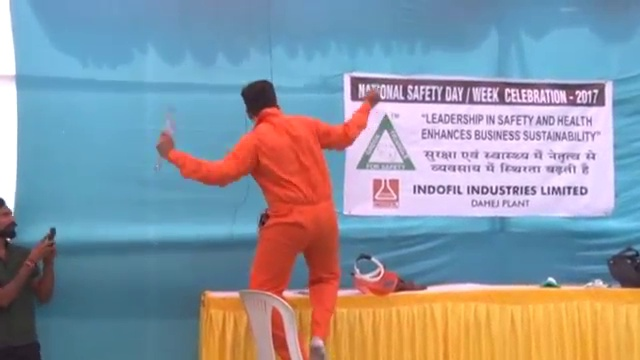helmet_off: (241, 79, 280, 120), (1, 194, 21, 242)
person: (154, 82, 390, 360), (1, 194, 55, 360)
